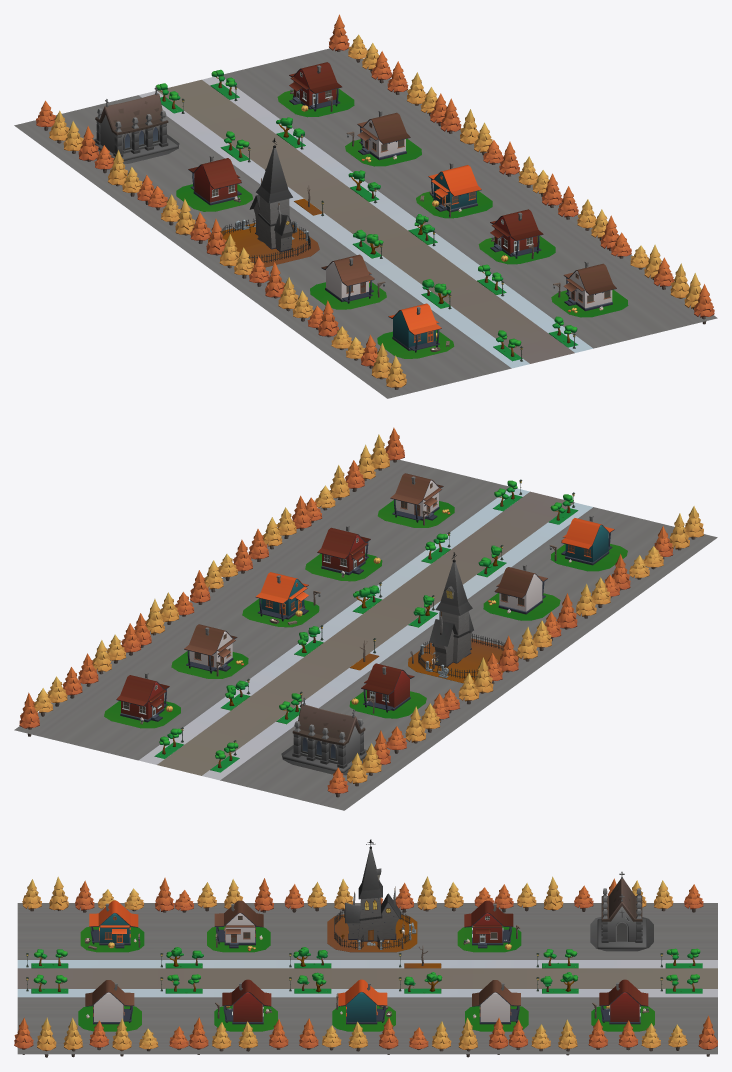
Rendered from Outsidearea 1.fbx.
3 views of the same model, one above another, from view 1: azimuth 30°, elevation 25°; view 2: azimuth 150°, elevation 25°; view 3: azimuth 270°, elevation 25° (orthographic). The views are drawn at different scales.
Parts seen in each view (by area): view 1: Plane.005, Plane.016, Plane.007, Plane.008, Catedra.002, Cube.001, Plane.019, Cube.007, Cube.005, Cube.027, Cube.002, Cube.004 (+13 smaller); view 2: Plane.005, Plane.016, Plane.007, Plane.008, Catedra.002, Cube.001, Cube.026, Cube.027, Cube.002, Cube.003, Cube.005, Plane.019 (+13 smaller); view 3: Plane.016, Plane.005, Plane.007, Plane.008, Cube.001, Catedra.002, Plane.019, Cube.008, Cube.004, Cube.003, Cube.027, Cube.002 (+36 smaller).
Boxes of the visible parts, <box> form: Plane.005: <box>223,48,717,348</box>; Plane.016: <box>14,95,511,398</box>; Plane.007: <box>158,79,574,363</box>; Plane.008: <box>138,76,592,368</box>; Catedra.002: <box>94,86,178,160</box>; Cube.001: <box>249,145,294,252</box>; Plane.019: <box>208,223,319,267</box>; Cube.007: <box>563,261,616,311</box>; Cube.005: <box>357,110,410,160</box>; Cube.027: <box>490,209,543,258</box>; Cube.002: <box>289,62,342,111</box>; Cube.004: <box>188,155,241,205</box>; Plane.005: <box>14,459,509,760</box>; Plane.016: <box>220,507,717,810</box>; Plane.007: <box>157,491,574,775</box>; Plane.008: <box>138,488,592,780</box>; Catedra.002: <box>282,697,366,772</box>; Cube.001: <box>429,559,473,667</box>; Cube.026: <box>255,572,308,621</box>; Cube.027: <box>317,525,370,575</box>; Cube.002: <box>116,672,169,722</box>; Cube.003: <box>561,515,614,565</box>; Cube.005: <box>184,624,237,673</box>; Plane.019: <box>408,638,518,683</box>; Plane.016: <box>17,903,717,959</box>; Plane.005: <box>17,997,717,1054</box>; Plane.007: <box>17,968,717,988</box>; Plane.008: <box>17,960,717,997</box>; Cube.001: <box>345,846,400,941</box>; Catedra.002: <box>597,871,646,948</box>; Plane.019: <box>327,914,417,952</box>; Cube.008: <box>214,900,263,948</box>; Cube.004: <box>464,900,513,948</box>; Cube.003: <box>89,900,138,948</box>; Cube.027: <box>222,979,271,1024</box>; Cube.002: <box>599,979,648,1024</box>.
Bounding box in the file's own units: 7659 × 2460 × 14944.
30 materials, 28 textured.
